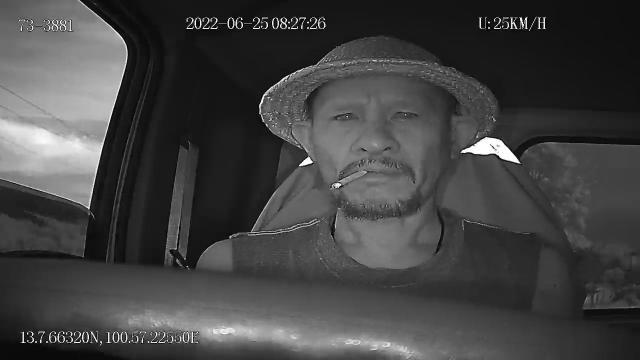SafeDriving: (385, 101, 426, 126), (326, 102, 364, 126)
Smoking: (332, 168, 366, 190)
